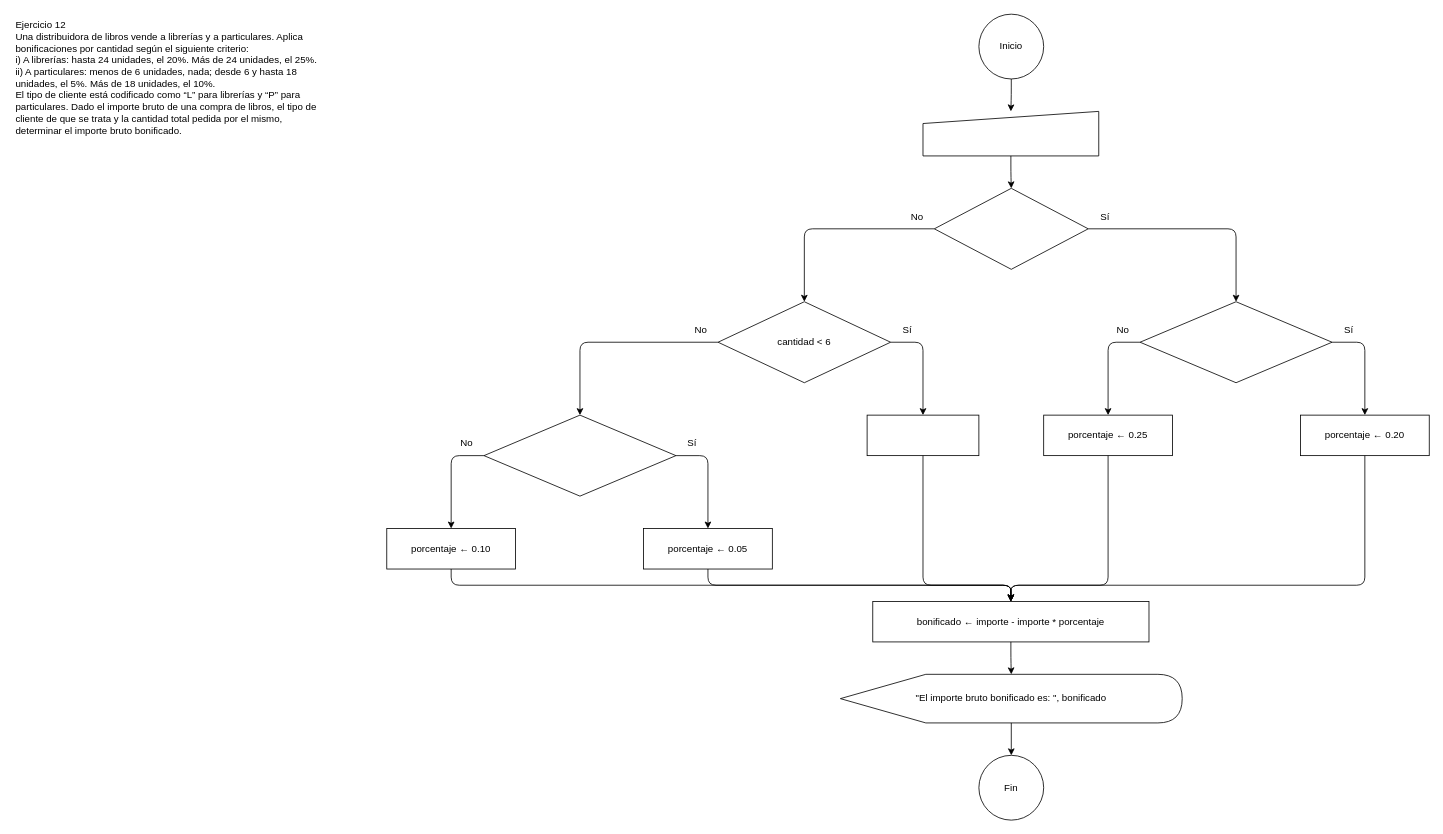
Some shapes in this 1443 by 834 pixel diagram are drawn without their labels. Each missing label, with the centre of its shape:
cantidad <= 18: pixel 579 455
cantidad <= 24: pixel 1235 342
importe,tipo,cantidad: pixel 1010 133
porcentaje ← 0: pixel 922 435
tipo = "L": pixel 1011 228
